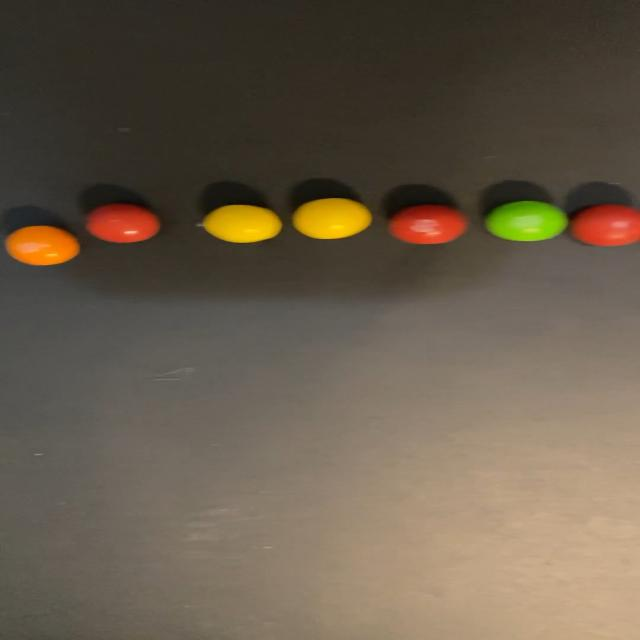smartie: (485, 201, 570, 241), (292, 197, 371, 239), (388, 204, 467, 244), (203, 204, 281, 242), (4, 225, 78, 265), (571, 204, 640, 246), (85, 203, 158, 242)
